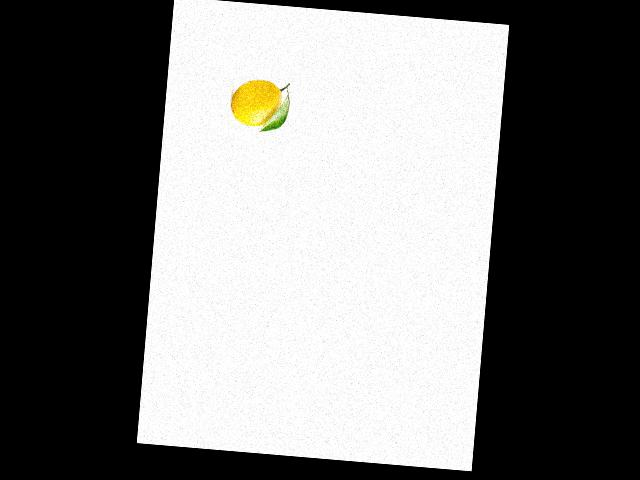lemon: (227, 75, 290, 132)
